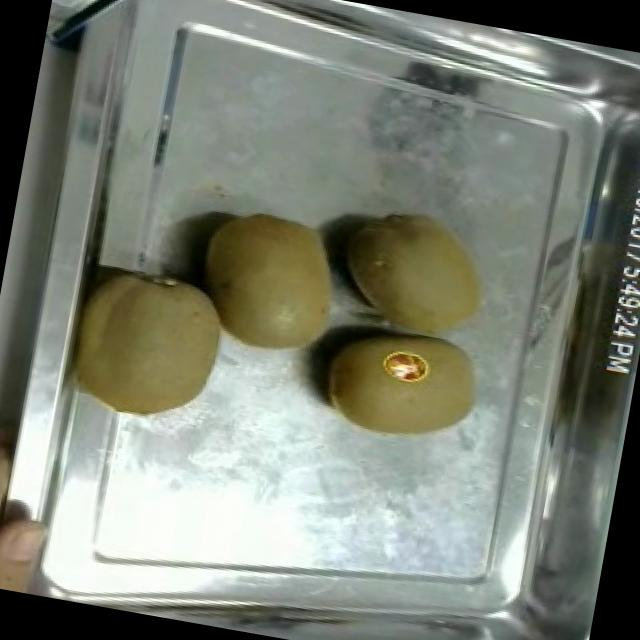Fruit: (64, 260, 243, 440), (182, 195, 360, 373), (324, 192, 504, 354), (308, 314, 492, 461)
